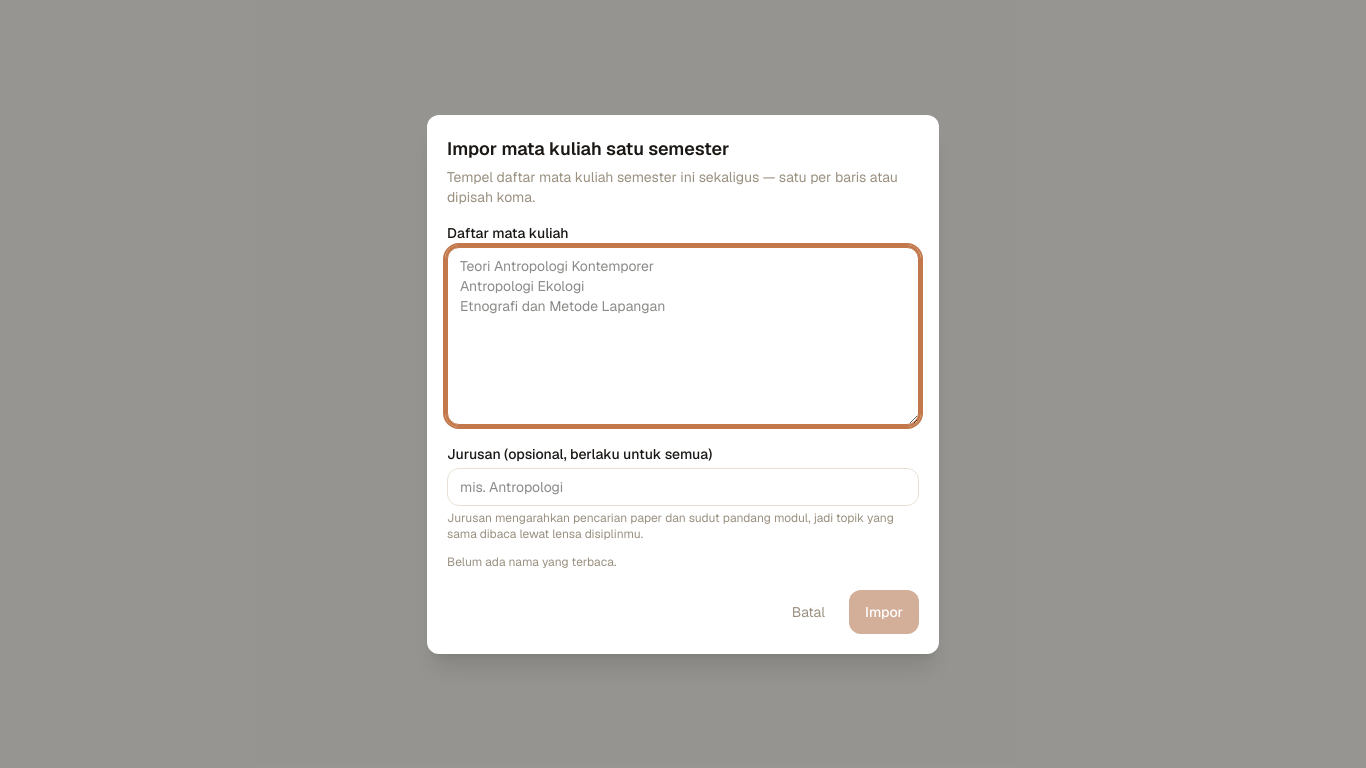
it: CourseBatchImport › surfaces a 409 collision instead of swallowing it as a generic failure
Type "X" into the text box with placeholder "Teori Antropologi Kontemporer". click: (683, 336)
box: [447,246,919,424]
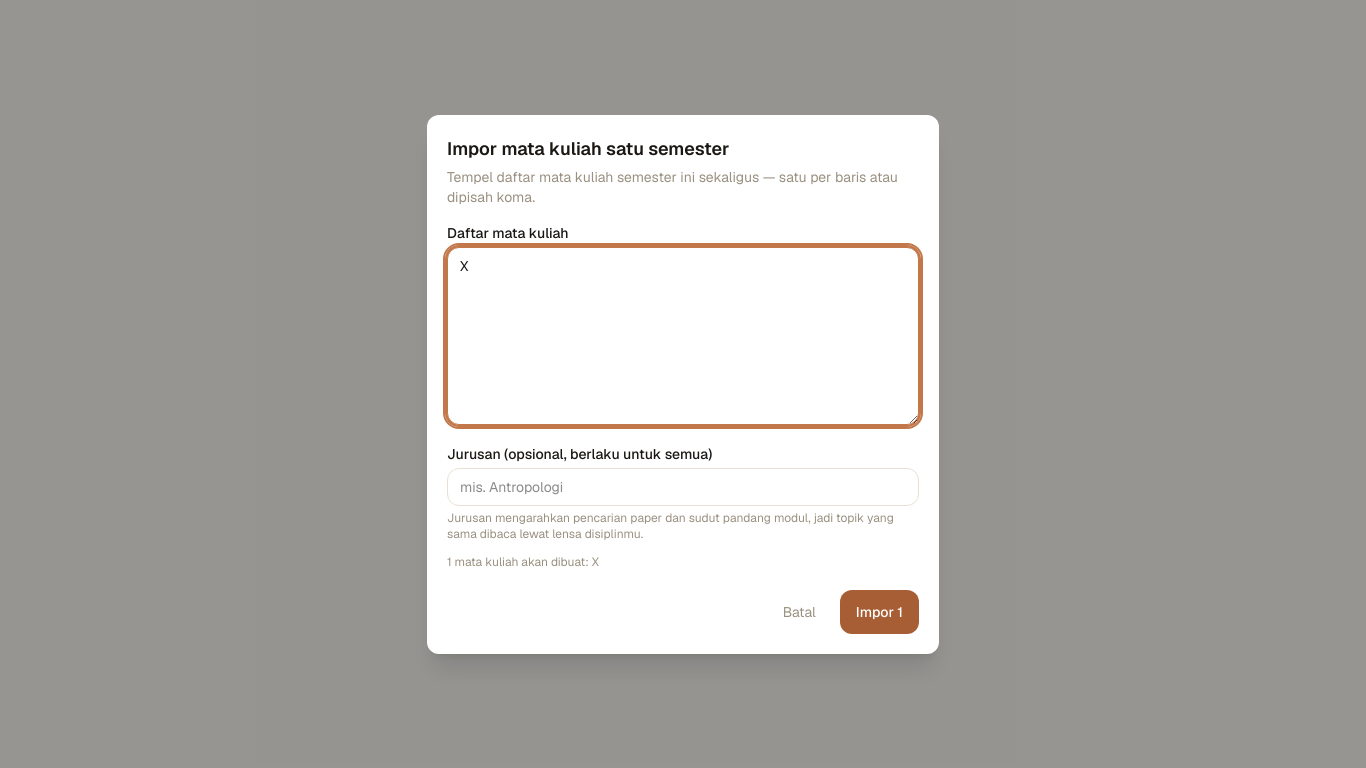
Click the button "Impor 1". click: (879, 612)
box: [840,590,919,634]
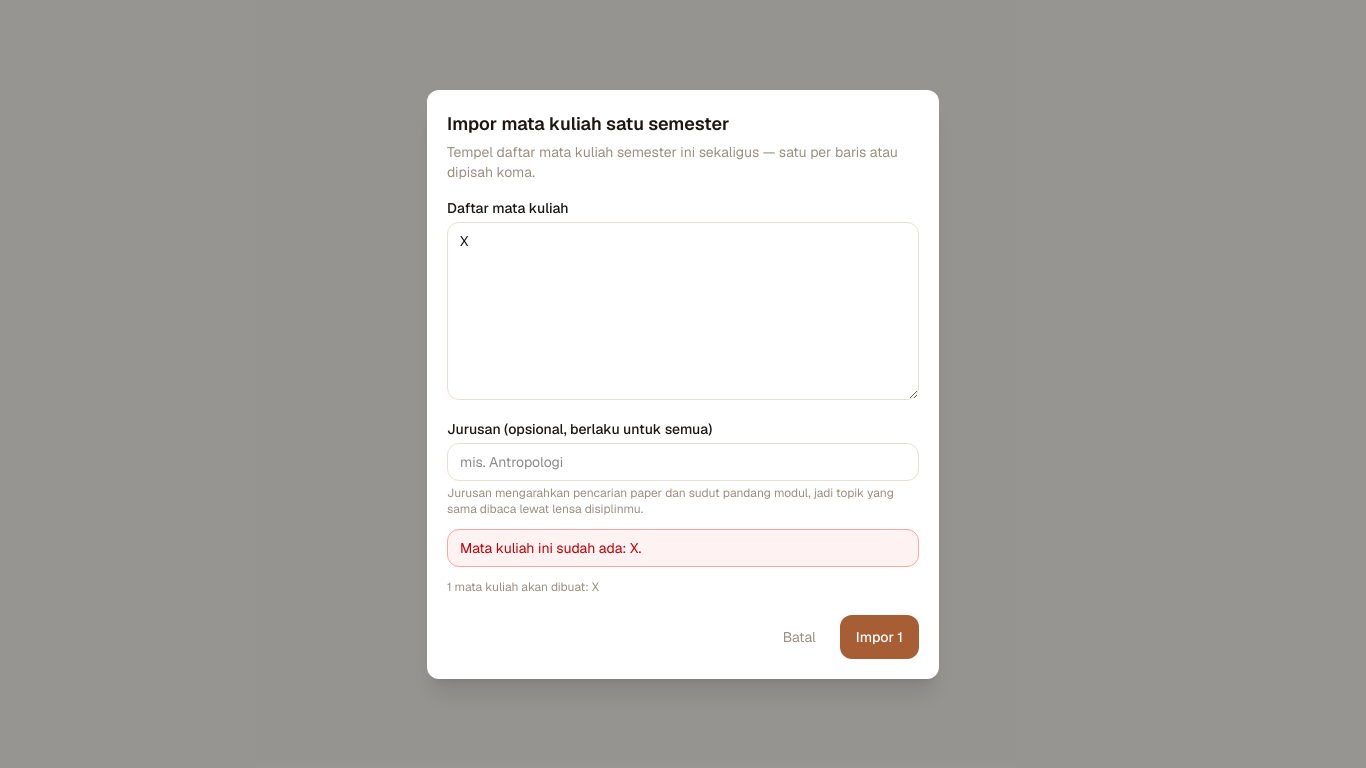
Check: the message shows "sudah ada", box [460,538,641,556]
